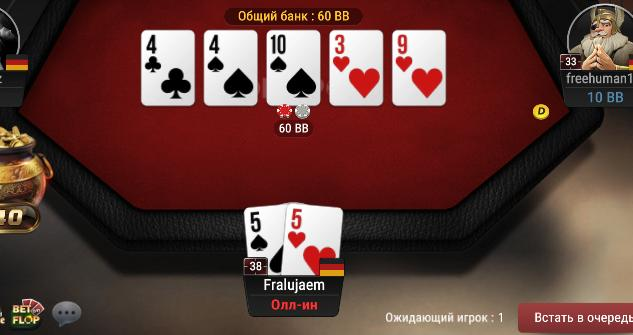10s: (267, 31, 319, 106)
3h: (330, 30, 383, 106)
4c: (140, 31, 194, 105)
4s: (205, 31, 258, 106)
5h: (284, 205, 343, 277)
5s: (242, 206, 284, 276)
9h: (393, 32, 445, 105)
